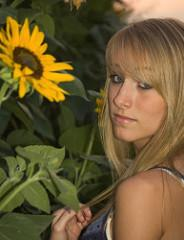sunflower: (0, 20, 73, 102)
